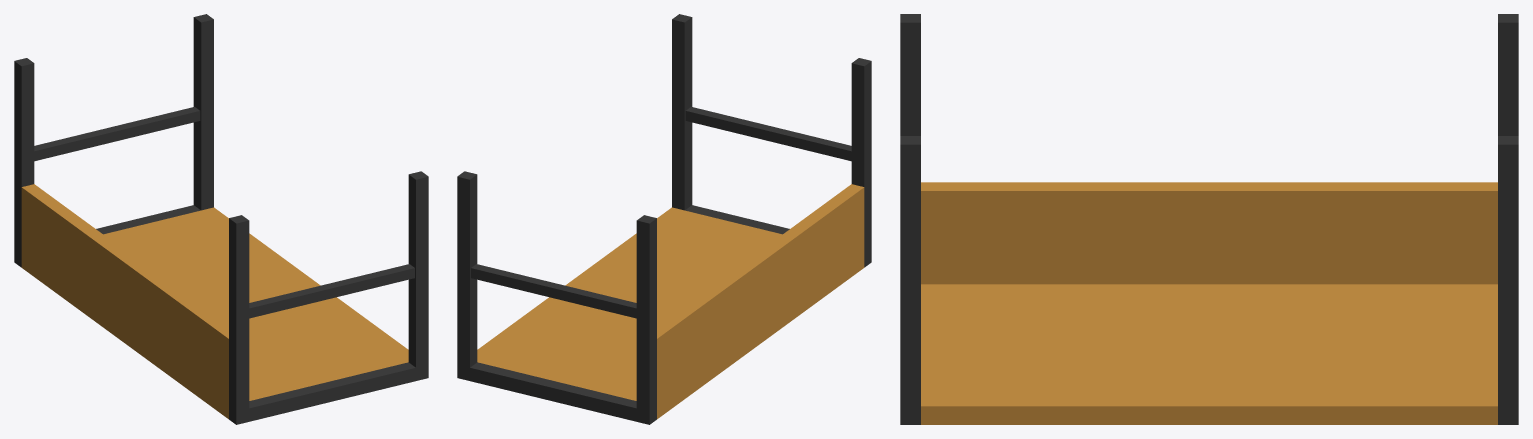
File: legFrameBookcase_loop.fbx
3 views of the same model, side by side, from view 1: azimuth 30°, elevation 25°; view 2: azimuth 150°, elevation 25°; view 3: azimuth 270°, elevation 25° (orthographic). The views are drawn at different scales.
Visible parts, largest first — view 1: legFrameBookcase_loop; view 2: legFrameBookcase_loop; view 3: legFrameBookcase_loop.
Boxes of the visible parts, x1=… form: legFrameBookcase_loop: x1=14, y1=14, x2=428, y2=424; legFrameBookcase_loop: x1=457, y1=14, x2=871, y2=424; legFrameBookcase_loop: x1=900, y1=14, x2=1518, y2=424.
Size of the model in its own units: 30 by 30 by 60.
